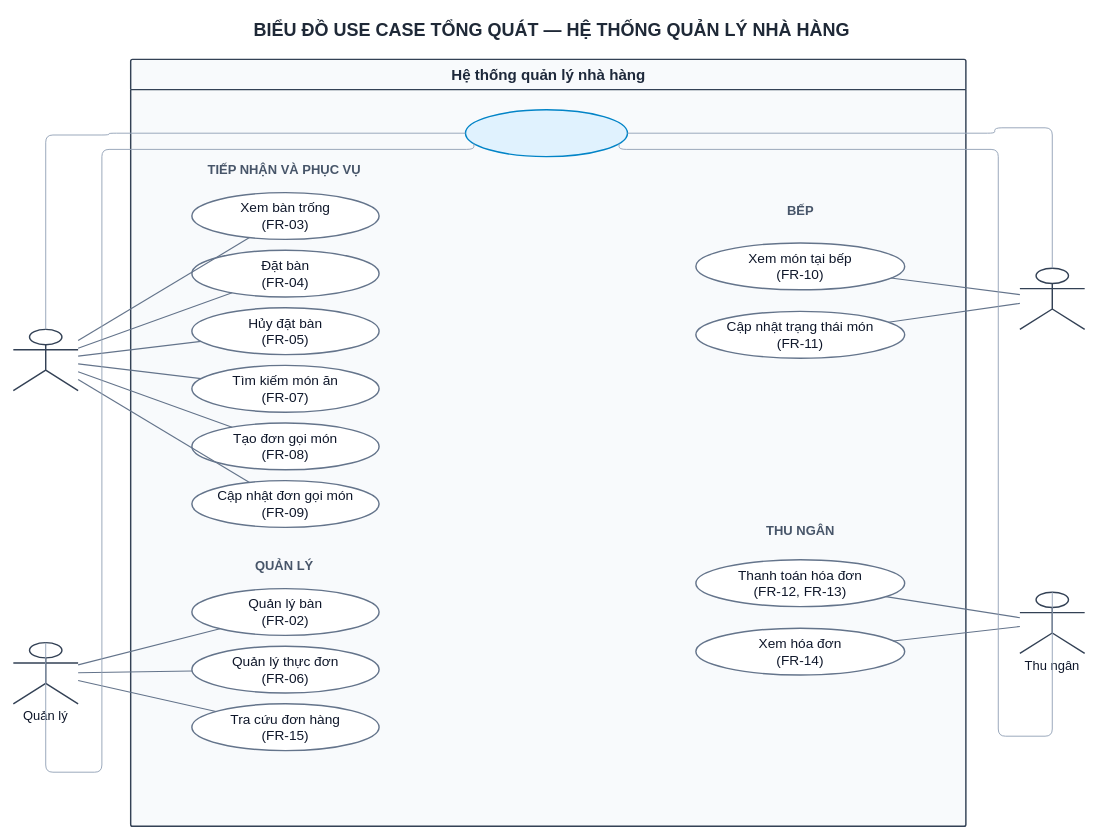
Some shapes in this 1097 by 839 pixel diagram are drawn without their labels. Each missing label, with the centre of its shape:
"Nhân viên bếp" belongs at (x=1052, y=298).
"Nhân viên tiếp nhận/phục vụ" belongs at (x=45, y=359).
"Đăng nhập (FR-01)" belongs at (x=546, y=133).
